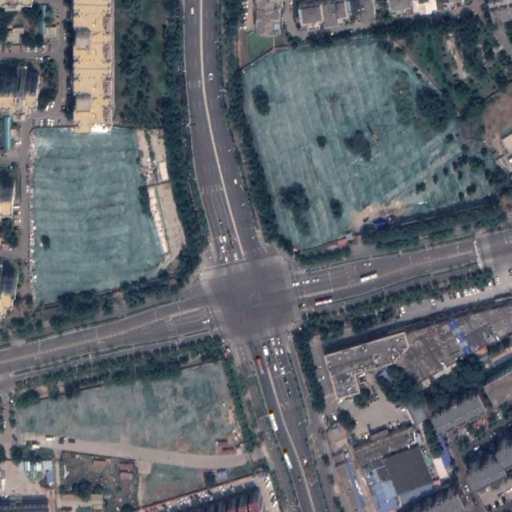cw: (241, 42, 503, 252), (32, 128, 169, 308), (19, 359, 247, 455)
